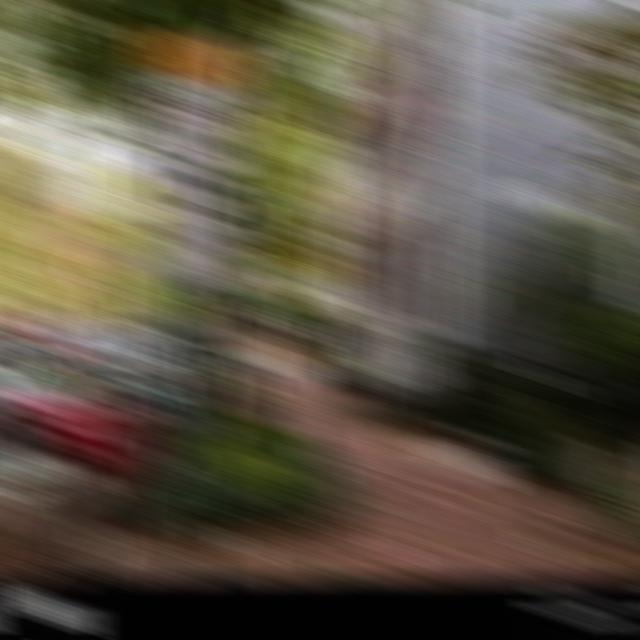speedLimit15: (135, 78, 249, 239)
